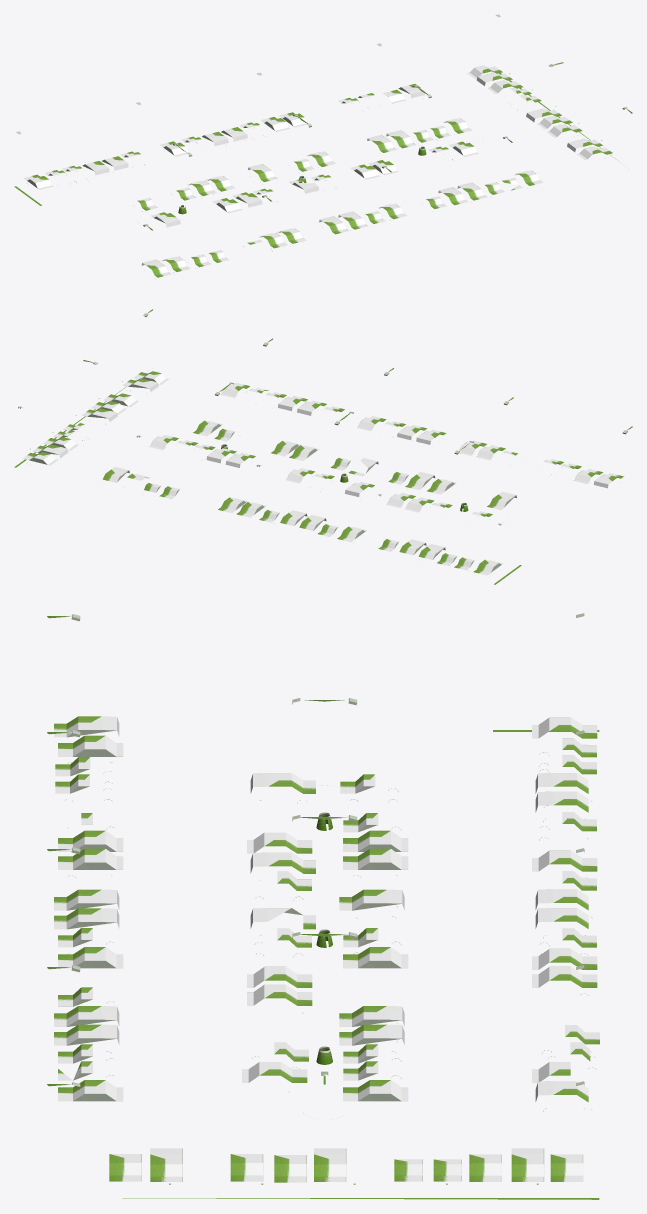
The model's file is parking terrain.obj.
The picture shows the model from 3 angles, top to bottom: view 1: azimuth 30°, elevation 25°; view 2: azimuth 150°, elevation 25°; view 3: azimuth 270°, elevation 25°; orthographic projection. The views are drawn at different scales.
Visible parts, largest first — view 1: Parkinglot_Factory.001; view 2: Parkinglot_Factory.001; view 3: Parkinglot_Factory.001.
Part boxes in pixels (box(x1,y1,x2,y2)): Parkinglot_Factory.001: box(14, 14, 632, 277); Parkinglot_Factory.001: box(14, 309, 632, 584); Parkinglot_Factory.001: box(47, 613, 599, 1199).
Bounding box in the file's own units: 2420 × 306 × 1199.
